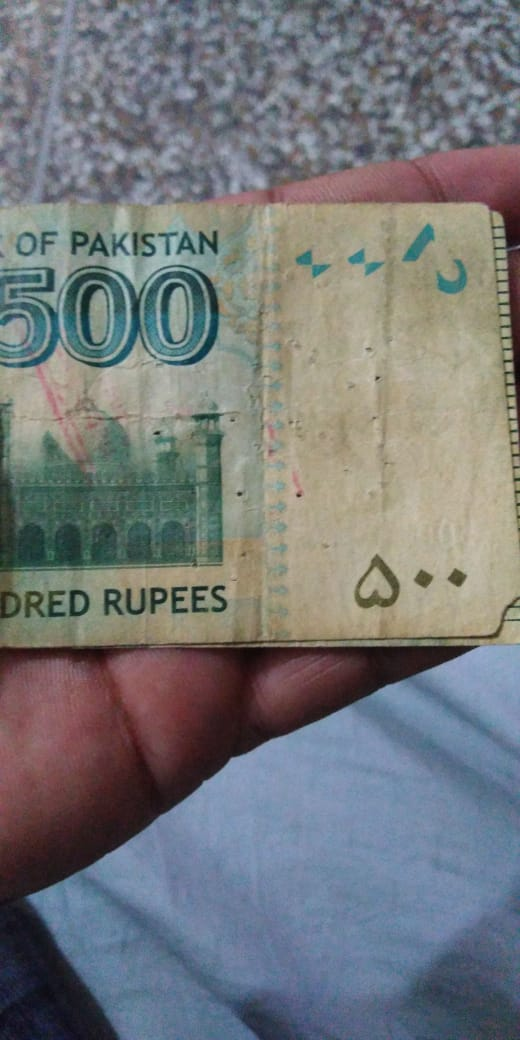500 rupee: (6, 201, 520, 662)
